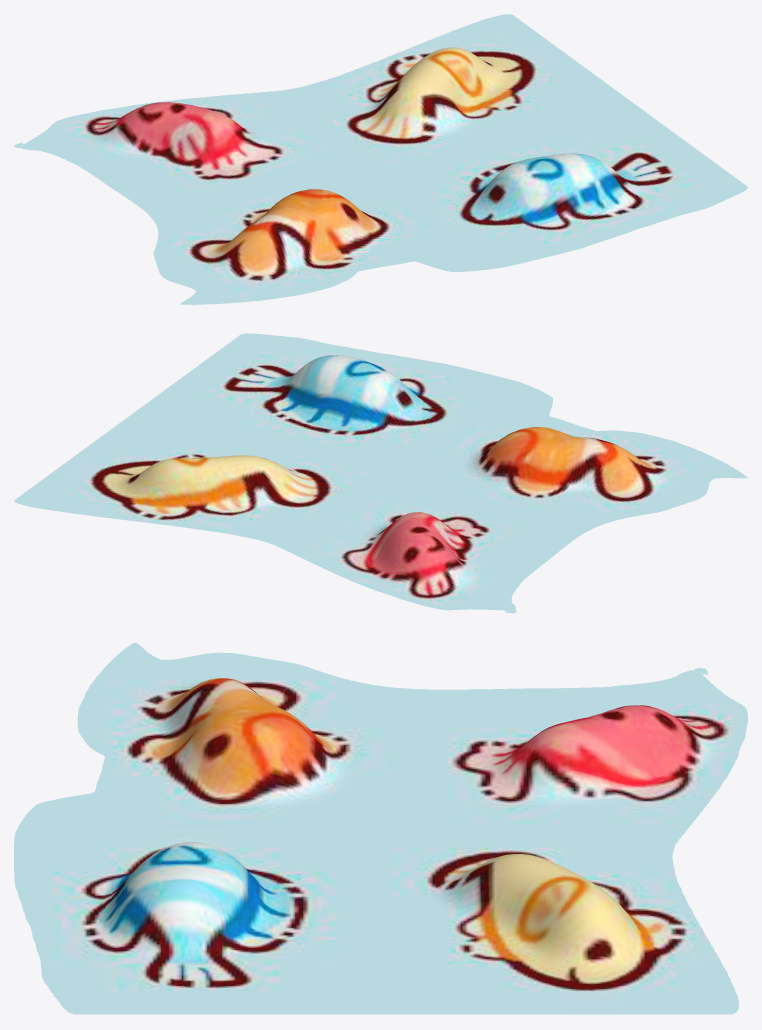
The model's file is 泡泡贴纸7.fbx.
3 views of the same model, one above another, from view 1: azimuth 30°, elevation 25°; view 2: azimuth 150°, elevation 25°; view 3: azimuth 270°, elevation 25° (orthographic). The views are drawn at different scales.
Parts seen in each view (by area): view 1: 平面.001; view 2: 平面.001; view 3: 平面.001.
Part boxes in pixels (x1,y1,x2,y2): 平面.001: [14, 14, 747, 304]; 平面.001: [14, 333, 747, 613]; 平面.001: [14, 642, 747, 1014].
Bounding box in the file's own units: 224 × 13.46 × 186.
